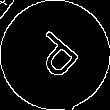P_SE: (24, 24, 86, 86)
